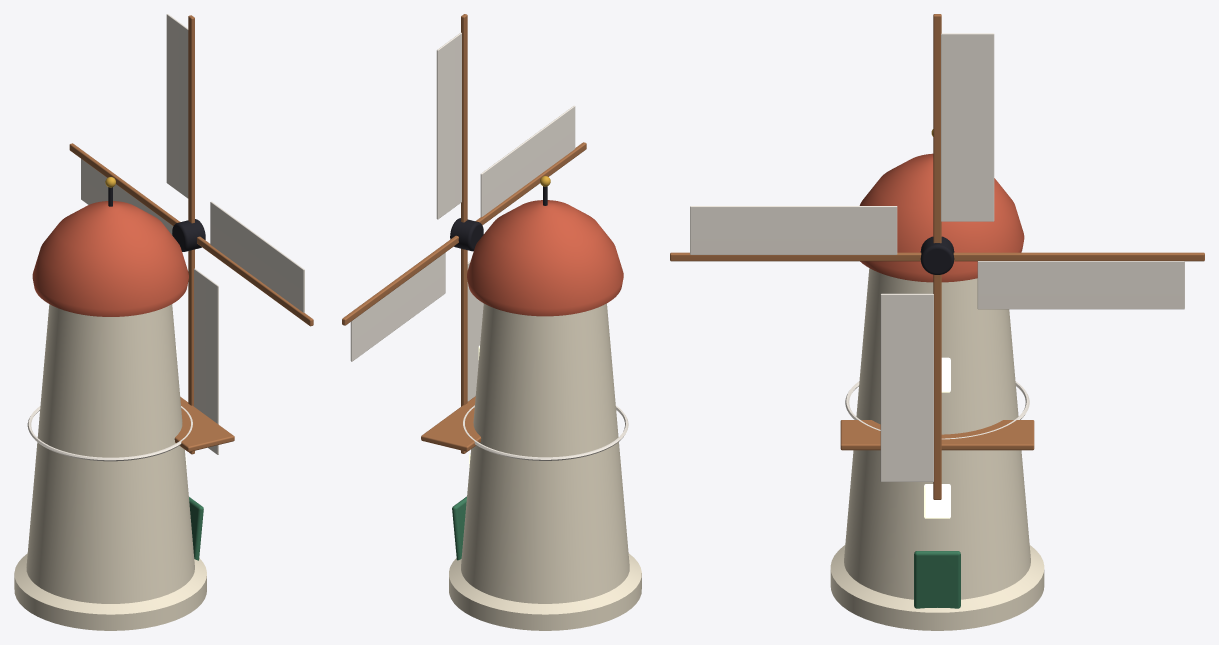
Rendered from windmill.glb.
3 views of the same model, side by side, from view 1: azimuth 30°, elevation 25°; view 2: azimuth 150°, elevation 25°; view 3: azimuth 270°, elevation 25° (orthographic). The views are drawn at different scales.
Visible parts, largest first — view 1: windmill.005, blades.005; view 2: windmill.005, blades.005; view 3: windmill.005, blades.005.
Boxes of the visible parts, left/top/right/bottom form: windmill.005: left=14, top=177, right=234, bottom=630; blades.005: left=69, top=14, right=313, bottom=454; windmill.005: left=421, top=176, right=641, bottom=630; blades.005: left=342, top=14, right=586, bottom=453; windmill.005: left=830, top=129, right=1044, bottom=630; blades.005: left=670, top=14, right=1204, bottom=499.
Bounding box in the file's own units: 6.59 × 20.3 × 16.
1 material, 1 textured.
